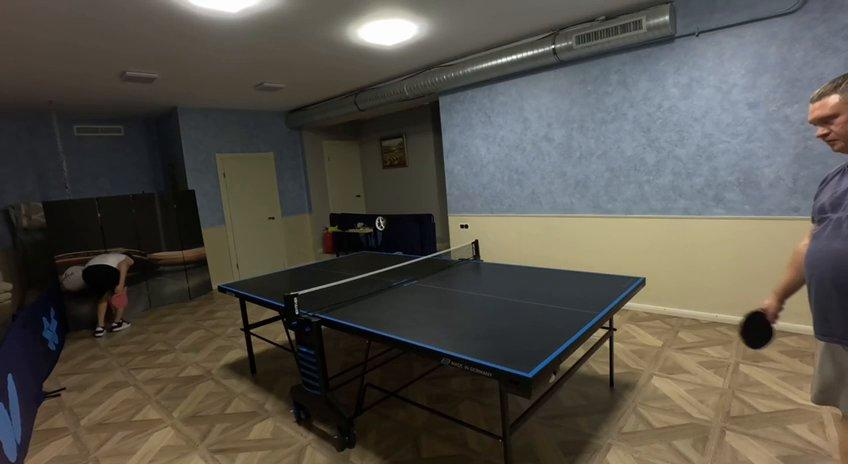Net: (284, 240, 482, 321)
Player1: (756, 162, 847, 463), (81, 251, 133, 336), (808, 73, 847, 155)
Table: (218, 254, 644, 374)
